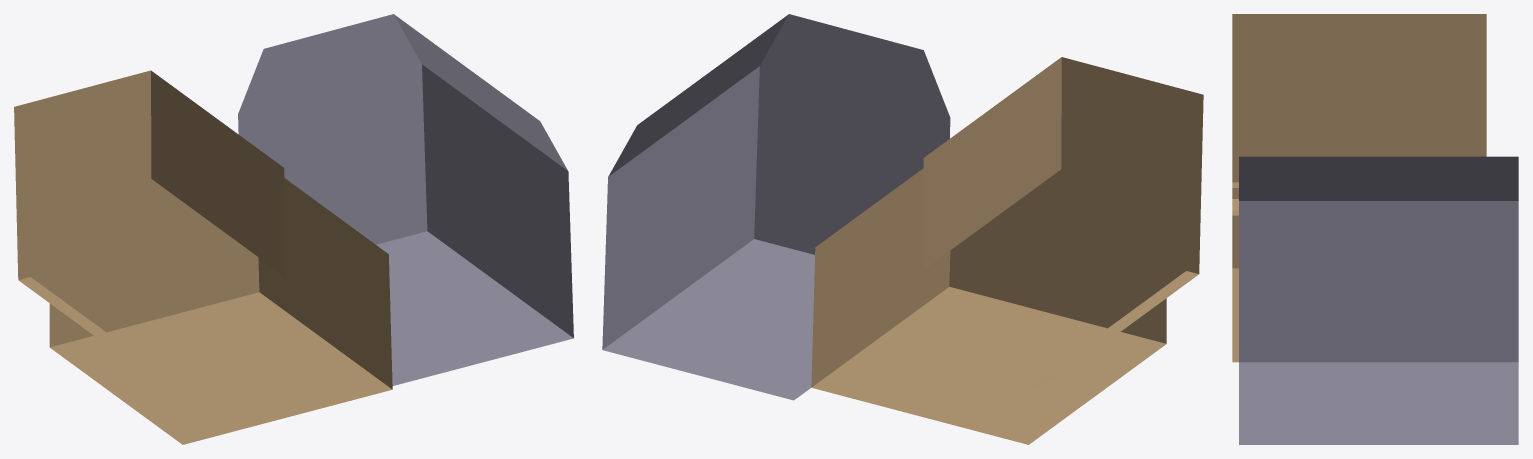
3 views of the same model, side by side, from view 1: azimuth 30°, elevation 25°; view 2: azimuth 150°, elevation 25°; view 3: azimuth 270°, elevation 25° (orthographic). The views are drawn at different scales.
Visible parts, largest first — view 1: 0_0_1_3_2_3_3_3; view 2: 0_0_1_3_2_3_3_3; view 3: 0_0_1_3_2_3_3_3.
Boxes of the visible parts, box(x1,y1,x2,y2) form: 0_0_1_3_2_3_3_3: box(14, 14, 573, 444); 0_0_1_3_2_3_3_3: box(602, 14, 1203, 444); 0_0_1_3_2_3_3_3: box(1232, 14, 1518, 444).
Bounding box in the file's own units: 55.94 × 31.34 × 33.8.
